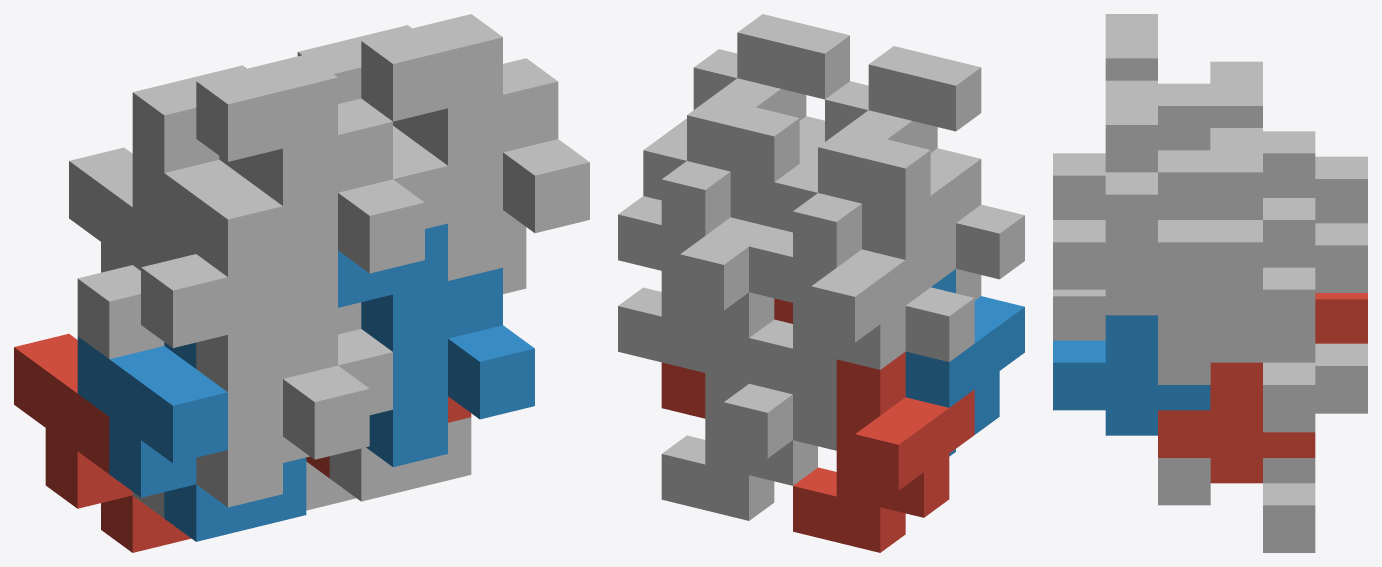
The model's file is tiling.obj.
3 views of the same model, side by side, from view 1: azimuth 30°, elevation 25°; view 2: azimuth 150°, elevation 25°; view 3: azimuth 270°, elevation 25° (orthographic). The views are drawn at different scales.
Visible parts, largest first — view 1: copy_2_domain_8, copy_2_domain_4, copy_2_domain_2, copy_2_domain_6, copy_1_domain_2, copy_1_domain_1, copy_1_domain_4, copy_1_domain_6, copy_1_domain_3, copy_2_domain_1, copy_2_domain_3, copy_1_domain_8 (+2 smaller); view 2: copy_1_domain_3, copy_1_domain_1, copy_1_domain_7, copy_1_domain_5, copy_2_domain_7, copy_2_domain_3, copy_2_domain_4, copy_2_domain_8, copy_1_domain_4, copy_1_domain_2, copy_2_domain_1, copy_2_domain_2 (+2 smaller); view 3: copy_2_domain_8, copy_2_domain_7, copy_1_domain_7, copy_2_domain_6, copy_2_domain_5, copy_1_domain_5, copy_1_domain_3, copy_2_domain_4, copy_1_domain_8, copy_1_domain_4, copy_2_domain_3, copy_2_domain_2 (+2 smaller).
Part boxes in pixels (x1=…): copy_2_domain_8: x1=361, y1=14, x2=589, y2=280; copy_2_domain_4: x1=196, y1=54, x2=424, y2=321; copy_2_domain_2: x1=141, y1=254, x2=369, y2=507; copy_2_domain_6: x1=338, y1=223, x2=534, y2=467; copy_1_domain_2: x1=77, y1=336, x2=306, y2=541; copy_1_domain_1: x1=14, y1=333, x2=191, y2=552; copy_1_domain_4: x1=132, y1=150, x2=361, y2=334; copy_1_domain_6: x1=306, y1=329, x2=471, y2=501; copy_1_domain_3: x1=69, y1=147, x2=164, y2=272; copy_2_domain_1: x1=77, y1=265, x2=306, y2=517; copy_2_domain_3: x1=132, y1=65, x2=246, y2=172; copy_1_domain_8: x1=393, y1=116, x2=526, y2=293; copy_1_domain_3: x1=749, y1=193, x2=930, y2=404; copy_1_domain_1: x1=793, y1=351, x2=974, y2=552; copy_1_domain_7: x1=618, y1=161, x2=774, y2=372; copy_1_domain_5: x1=661, y1=327, x2=817, y2=520; copy_2_domain_7: x1=618, y1=96, x2=799, y2=270; copy_2_domain_3: x1=749, y1=128, x2=930, y2=302; copy_2_domain_4: x1=800, y1=46, x2=981, y2=167; copy_2_domain_8: x1=669, y1=14, x2=849, y2=136; copy_1_domain_4: x1=844, y1=110, x2=981, y2=286; copy_1_domain_2: x1=905, y1=269, x2=1024, y2=456; copy_2_domain_1: x1=793, y1=287, x2=974, y2=450; copy_2_domain_2: x1=956, y1=204, x2=1024, y2=300; copy_2_domain_8: x1=1053, y1=80, x2=1210, y2=315; copy_2_domain_7: x1=1158, y1=128, x2=1315, y2=362; copy_1_domain_7: x1=1263, y1=198, x2=1367, y2=432; copy_2_domain_6: x1=1053, y1=315, x2=1210, y2=435; copy_2_domain_5: x1=1158, y1=362, x2=1315, y2=483; copy_1_domain_5: x1=1263, y1=343, x2=1367, y2=552; copy_1_domain_3: x1=1263, y1=131, x2=1367, y2=223; copy_2_domain_4: x1=1053, y1=14, x2=1157, y2=219; copy_1_domain_8: x1=1158, y1=150, x2=1210, y2=384; copy_1_domain_4: x1=1158, y1=83, x2=1210, y2=150; copy_2_domain_3: x1=1210, y1=61, x2=1262, y2=127; copy_2_domain_2: x1=1053, y1=289, x2=1105, y2=340.
Bounding box in the file's own units: 7 × 9 × 6.
